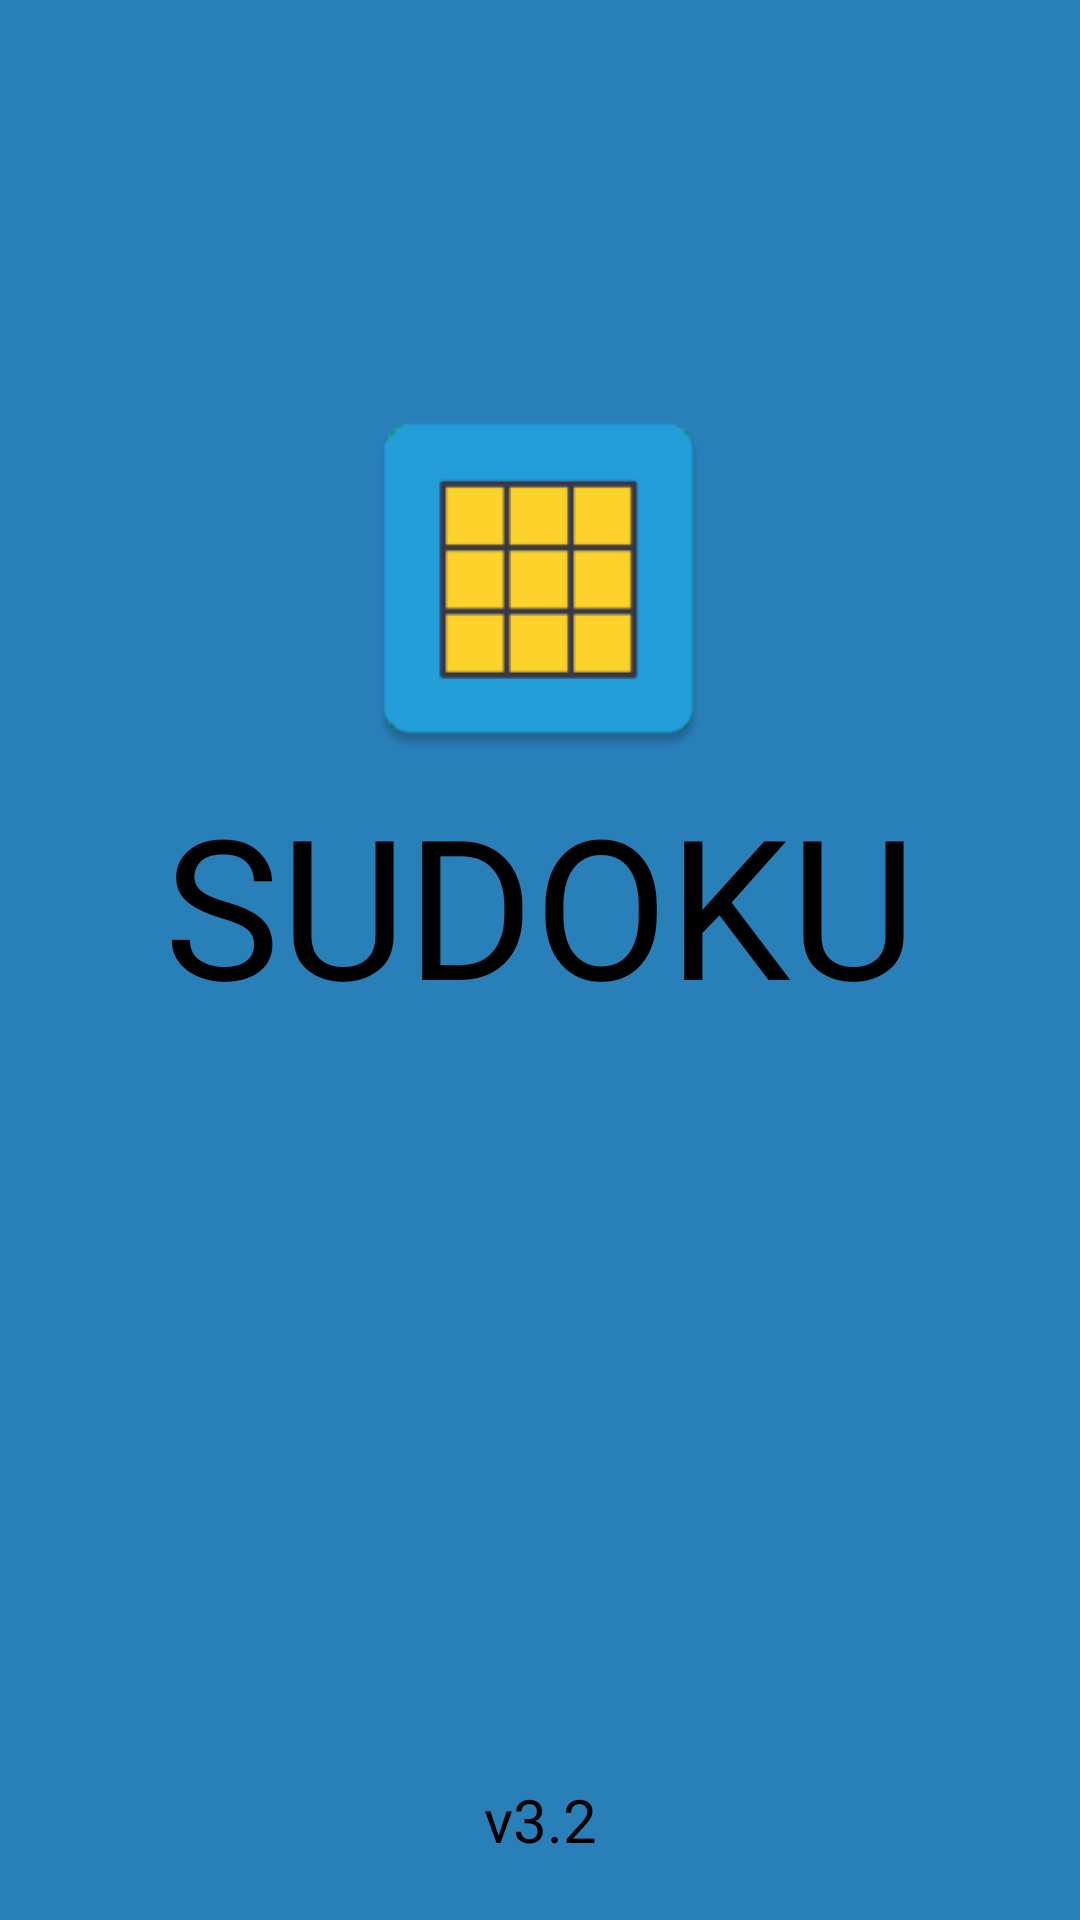

Icon click points for this 1080px×1920px phone screenshot, format [x,y]:
app: [539,583]
